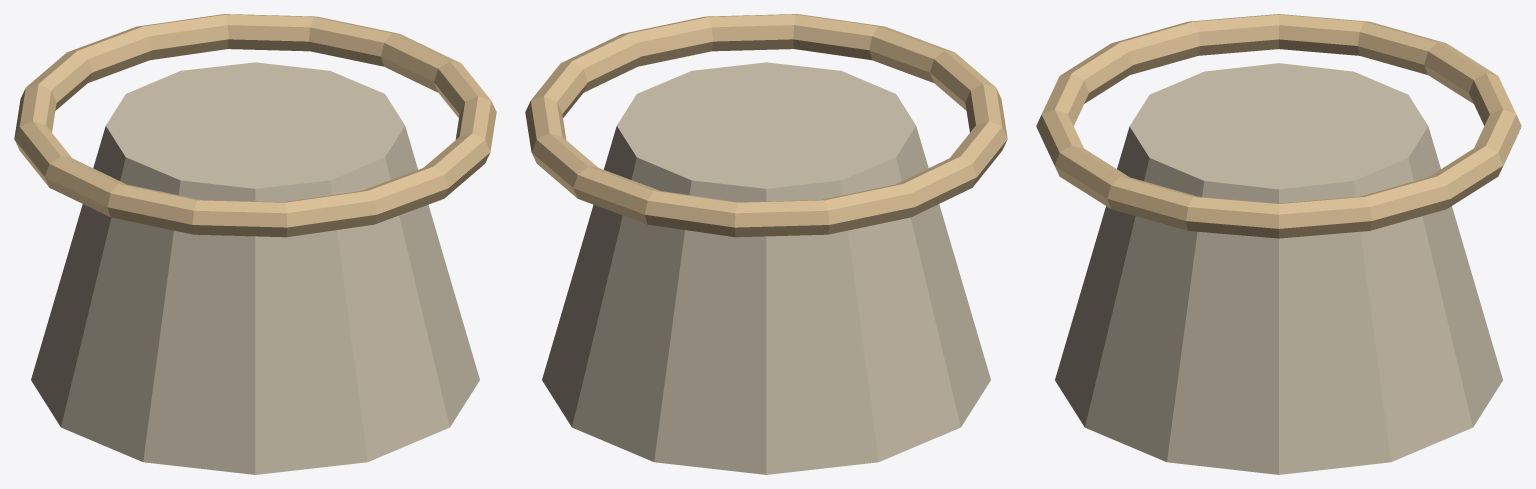
File: Basket_2.glb
3 renders of one model, left to right at view 1: azimuth 30°, elevation 25°; view 2: azimuth 150°, elevation 25°; view 3: azimuth 270°, elevation 25°, orthographic.
Visible parts, largest first — view 1: Basket_2; view 2: Basket_2; view 3: Basket_2.
Boxes of the visible parts, x1,y1,x2,y2 form: Basket_2: (14, 14, 496, 474); Basket_2: (525, 14, 1007, 474); Basket_2: (1036, 14, 1521, 474).
Bounding box in the file's own units: 0.26 × 0.16 × 0.26.
